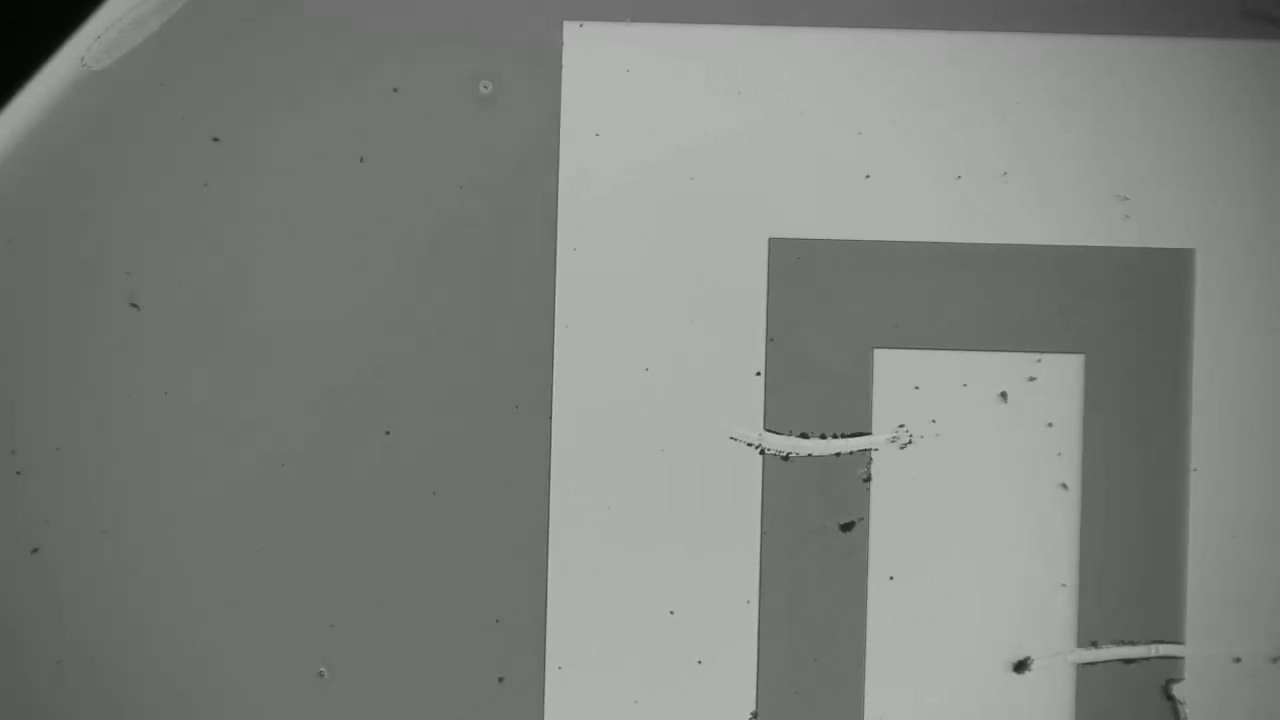Short_circuit: (1046, 621, 1213, 683), (728, 414, 890, 477)
